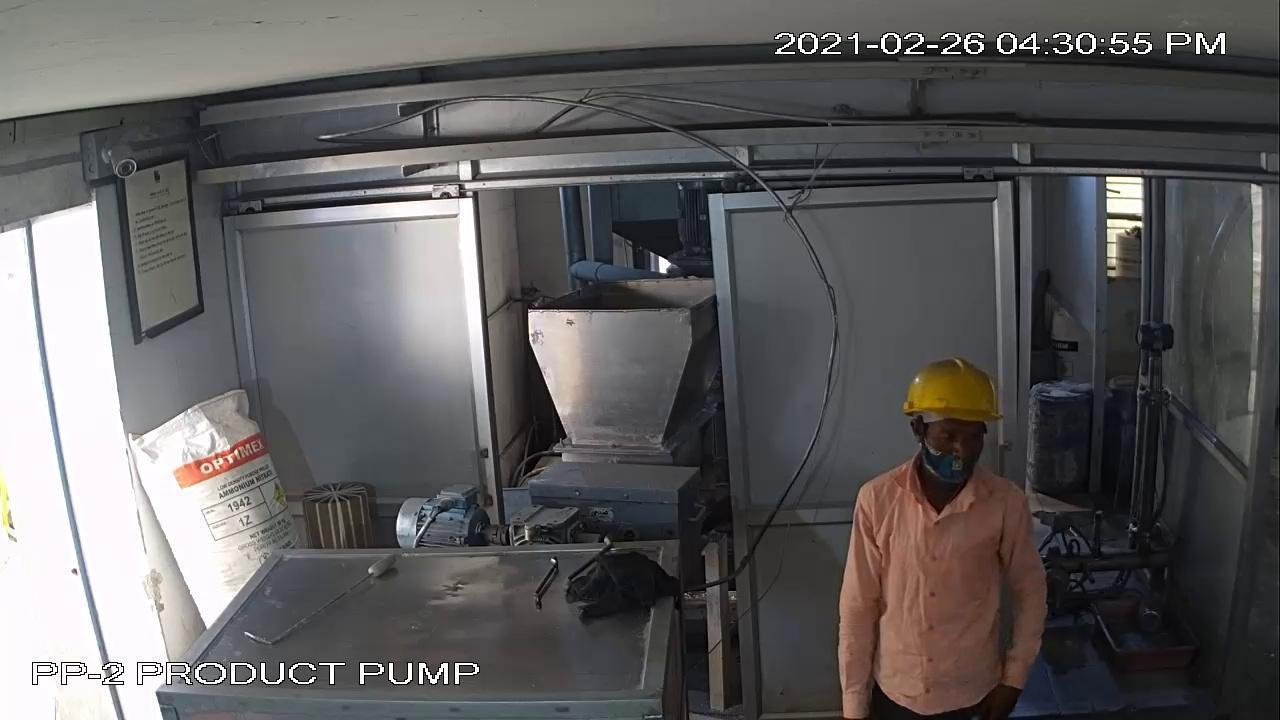helmet: (884, 352, 1011, 463)
